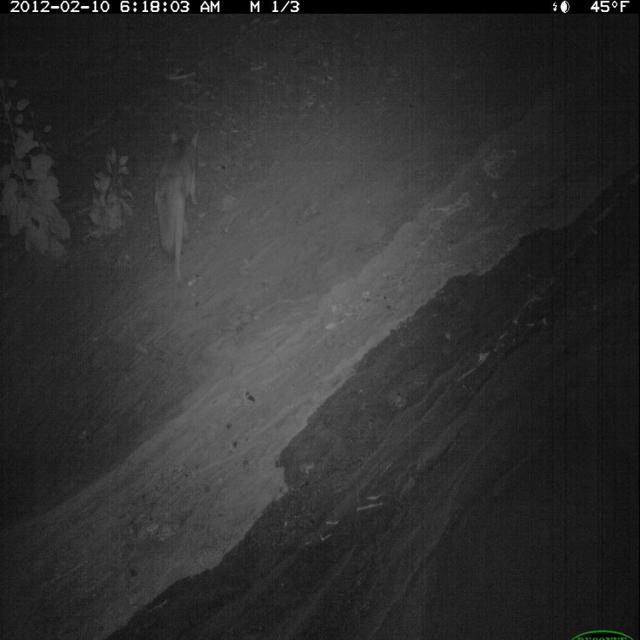coyote: (149, 124, 207, 294)
